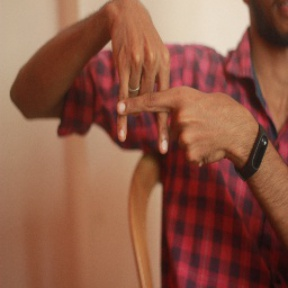H: (85, 31, 197, 158)
